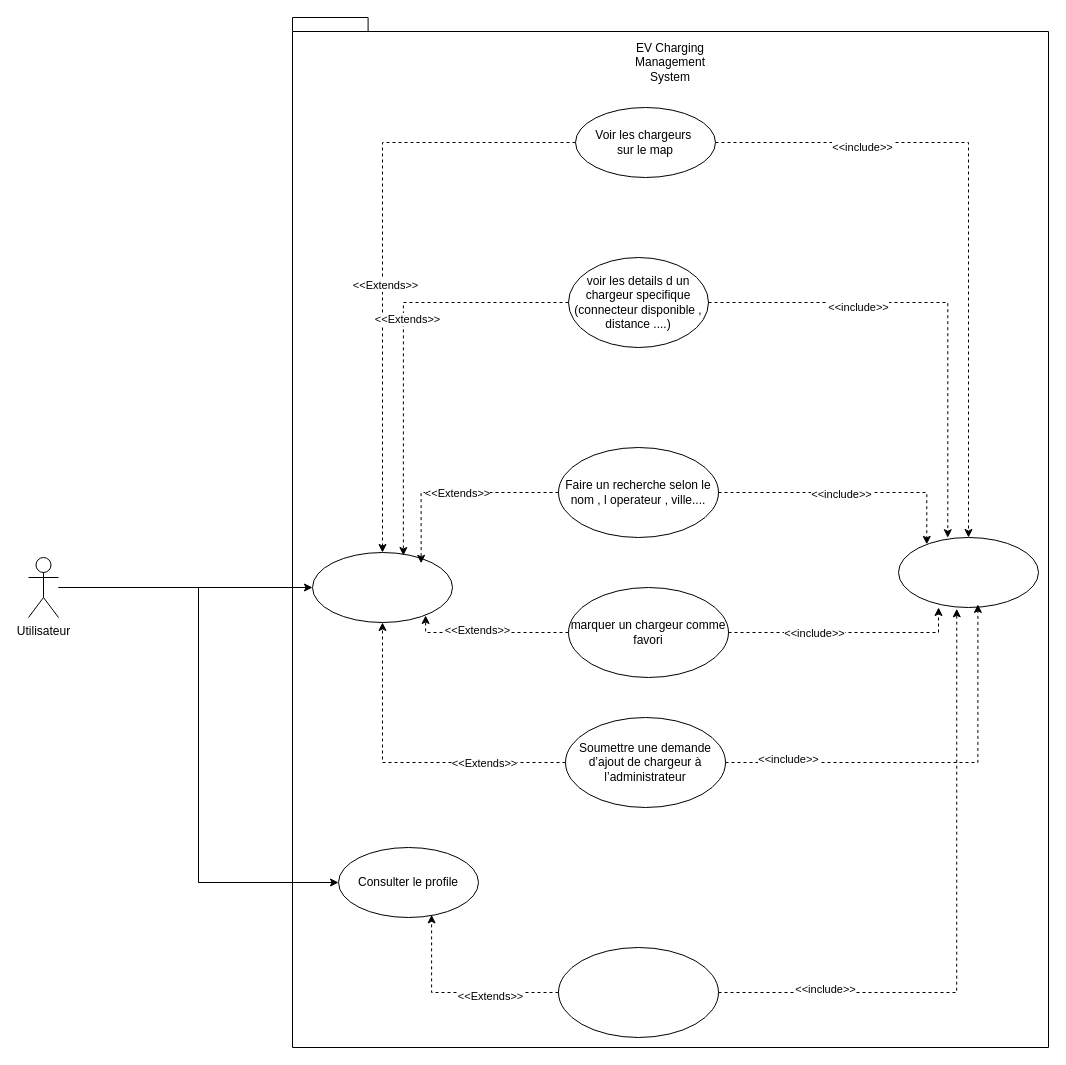
The diagram is 1066 pixels wide and 1065 high, and some of its shapes have lost their labels. Each missing label, with the centre of its shape:
Consulter le map: the point at 382,587
Consulter les chargeurs favoris: the point at 638,992
S authentifier: the point at 968,572
